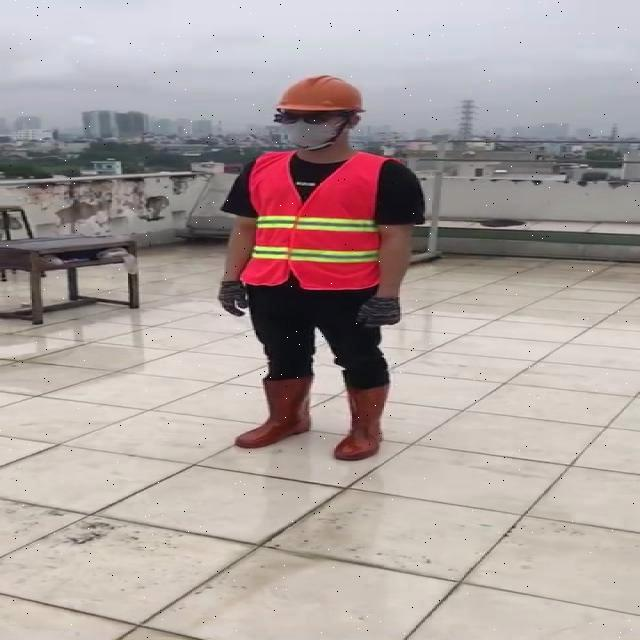Hard_hat: (270, 70, 373, 124)
Person: (212, 75, 434, 573)
Vest: (245, 145, 384, 288)
